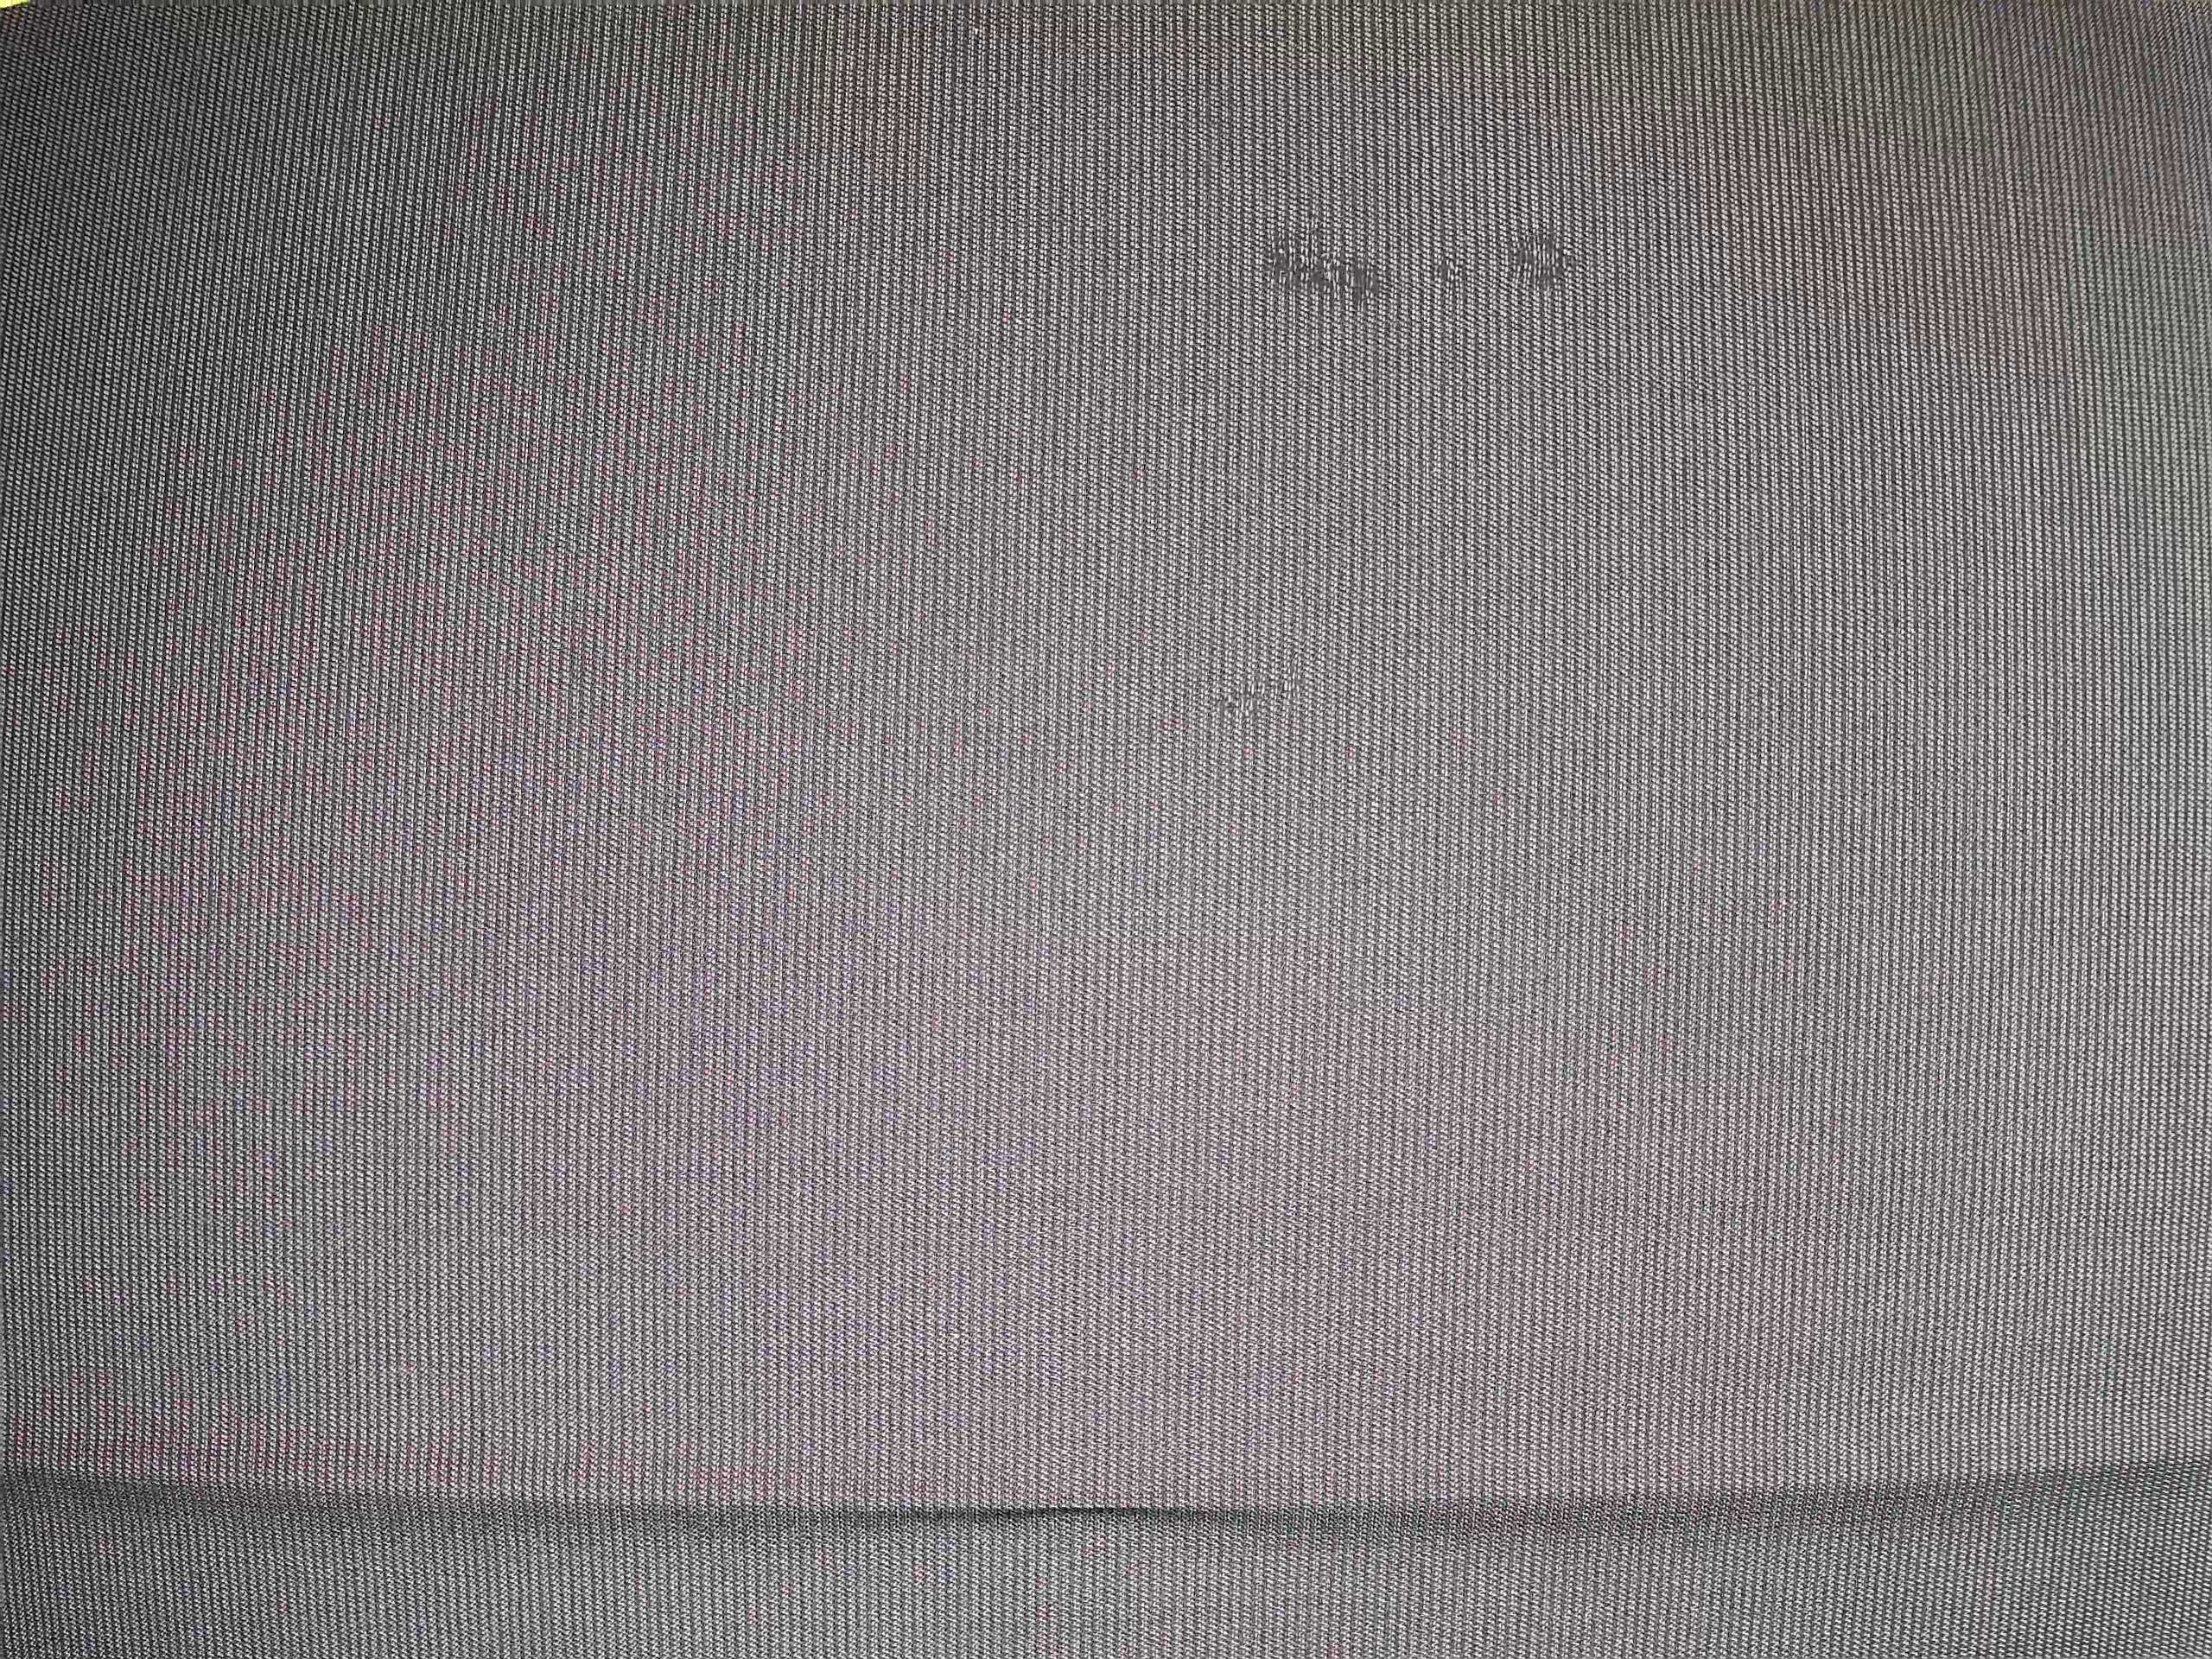rubbing-hole: (1240, 188, 1602, 324), (1197, 662, 1313, 728)
